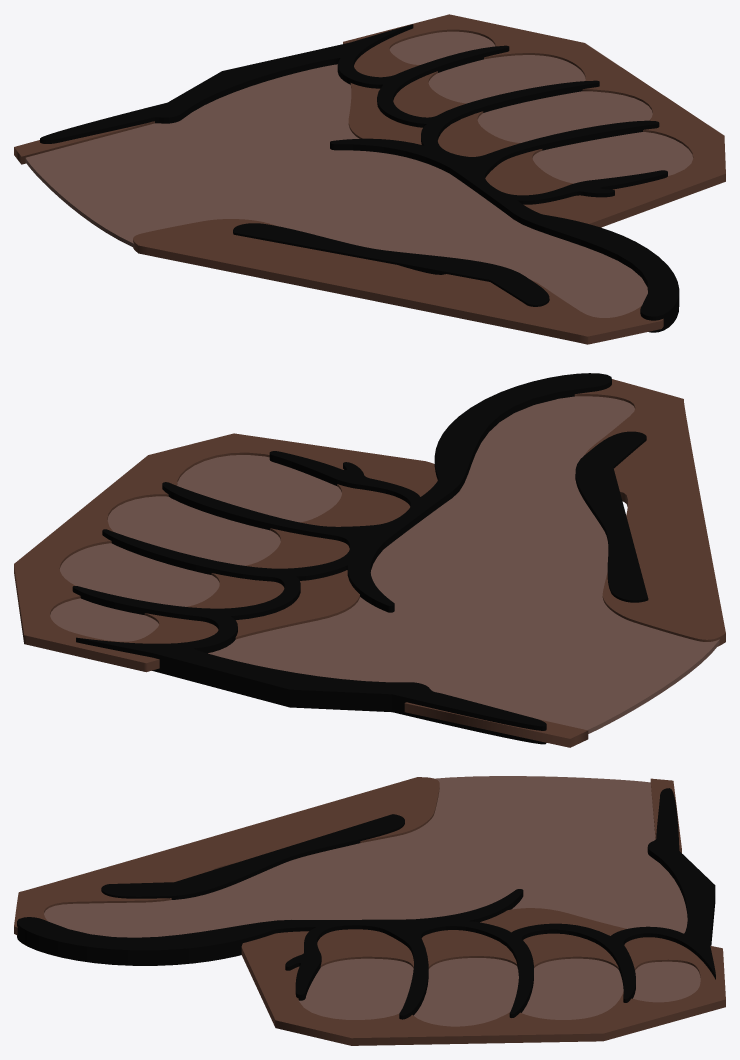
File: emoji_u1f44e_1f3ff.glb
The picture shows the model from 3 angles, top to bottom: view 1: azimuth 30°, elevation 25°; view 2: azimuth 150°, elevation 25°; view 3: azimuth 270°, elevation 25°; orthographic projection. The views are drawn at different scales.
Parts seen in each view (by area): view 1: emoji_u1f44e_1f3ff; view 2: emoji_u1f44e_1f3ff; view 3: emoji_u1f44e_1f3ff.
Boxes of the visible parts, <box> form: emoji_u1f44e_1f3ff: <box>14,14,725,344</box>; emoji_u1f44e_1f3ff: <box>14,373,725,747</box>; emoji_u1f44e_1f3ff: <box>14,776,725,1045</box>.
Bounding box in the file's own units: 0.0292 × 0.0008 × 0.0332.
